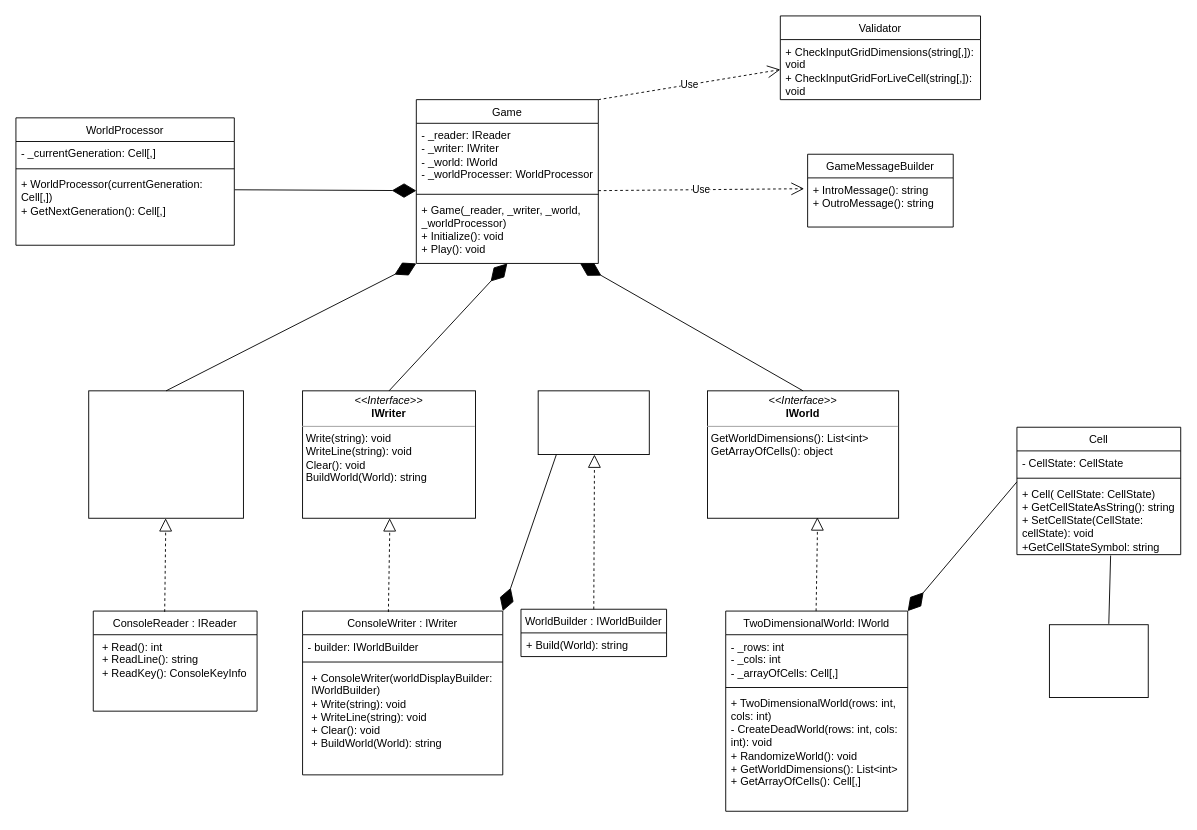
This 1197x830 diagram has some shape labels left out. The shapes that lost their labels are listed below. From the top down, each one's centre as x and y in pixels, then its label:
At point (593, 422): "<<Interface>> IWorldBuilder Build(World): string".
At point (165, 454): "<<Interface>> IReader Read(): int ReadLine(): string ReadKey(): ConsoleKeyInfo".
At point (1098, 661): "<<Enumeration>> CellState Dead, Alive".
